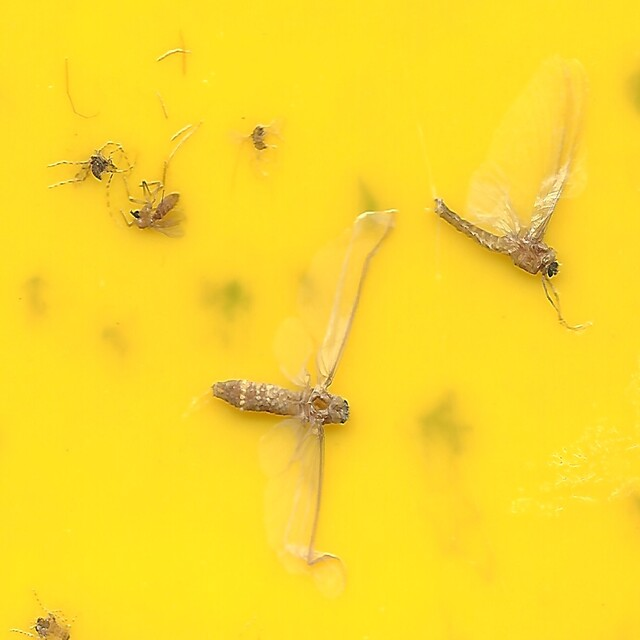Ephemeroptera: (205, 204, 395, 578), (429, 62, 592, 335)
Nematocera: (48, 139, 130, 210), (129, 177, 185, 239), (248, 123, 269, 155)
